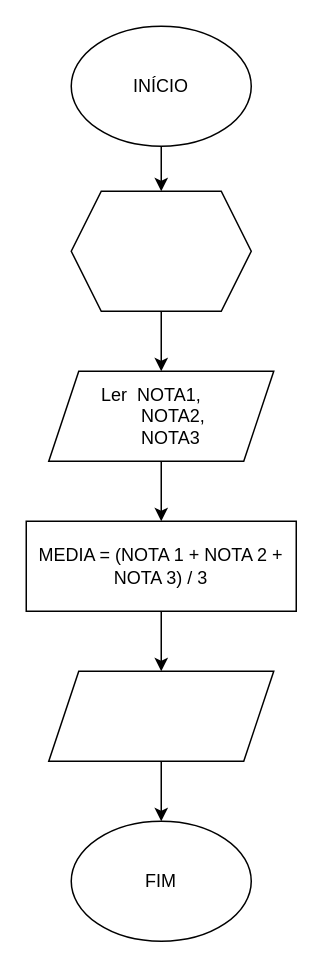
This 323x968 diagram has some shape labels left out. The shapes that lost their labels are listed below. From the top down, each one's centre as x and y in pixels, then its label:
the point at 160,250: NOTA 1 NOTA 2 NOTA 3 MEDIA
the point at 160,715: Exibir MEDIA
